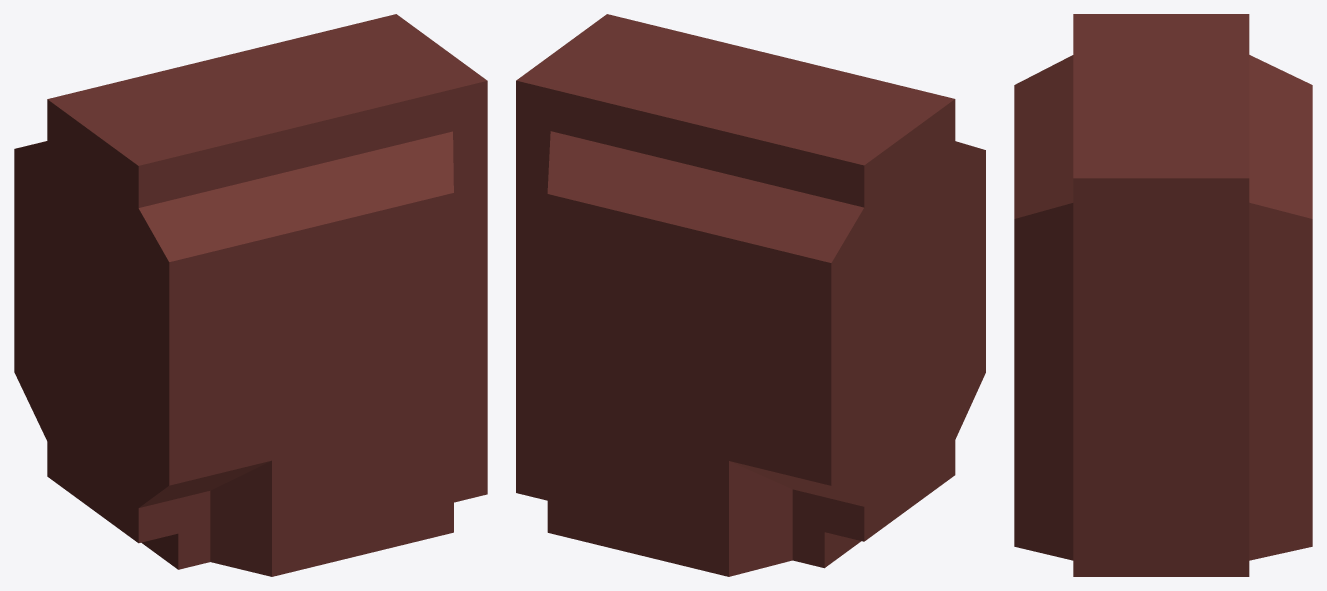
Rendered from right corner.fbx.
3 renders of one model, left to right at view 1: azimuth 30°, elevation 25°; view 2: azimuth 150°, elevation 25°; view 3: azimuth 270°, elevation 25°, orthographic. The views are drawn at different scales.
Parts seen in each view (by area): view 1: right corner; view 2: right corner; view 3: right corner.
Boxes of the visible parts, x1=… form: right corner: x1=14, y1=14, x2=487, y2=576; right corner: x1=516, y1=14, x2=985, y2=576; right corner: x1=1014, y1=14, x2=1312, y2=576.
Size of the model in its own units: 350 by 396 by 269.
